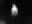person: (11, 4, 19, 18)
